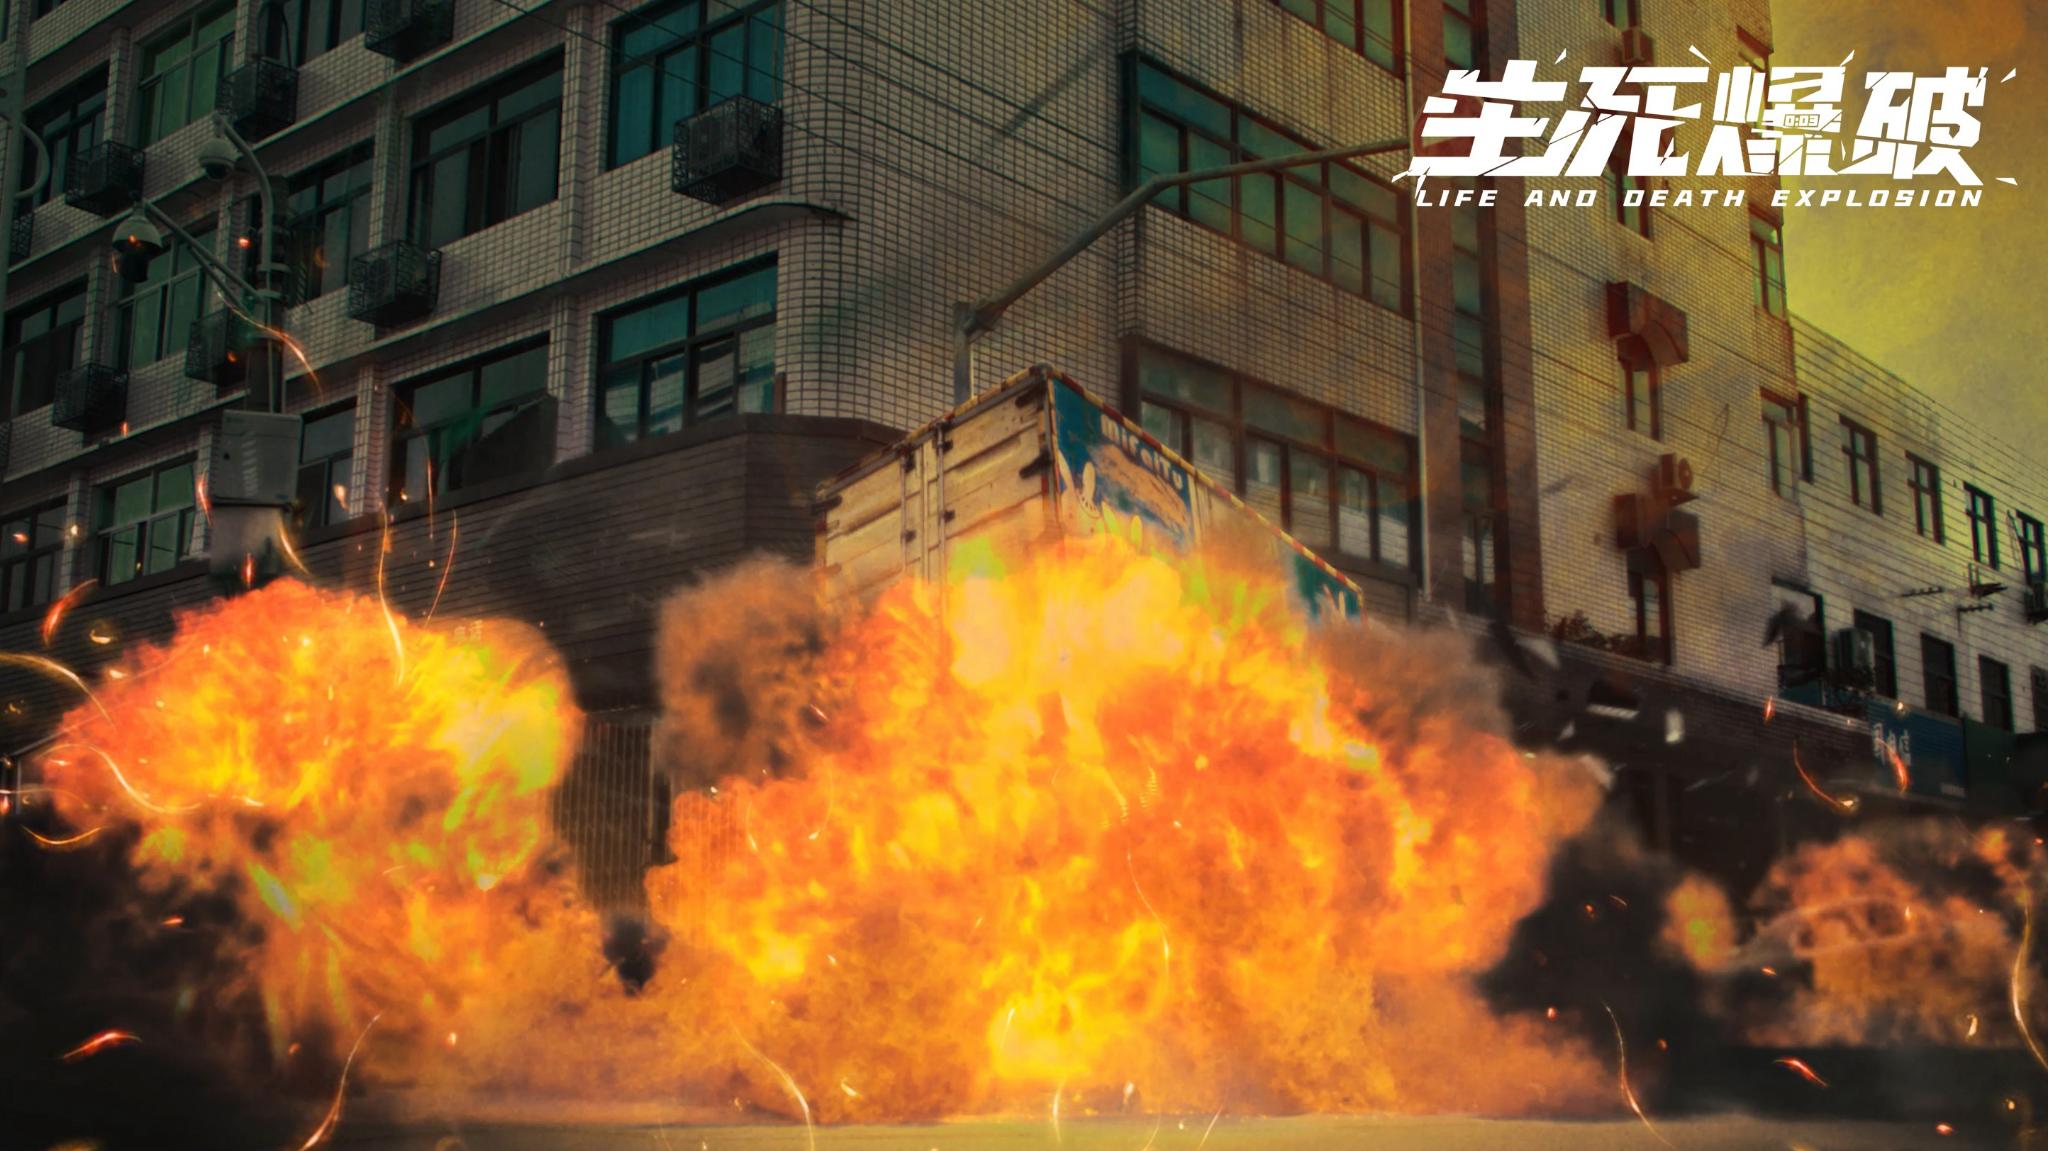Explosion: (8, 464, 1632, 1151)
